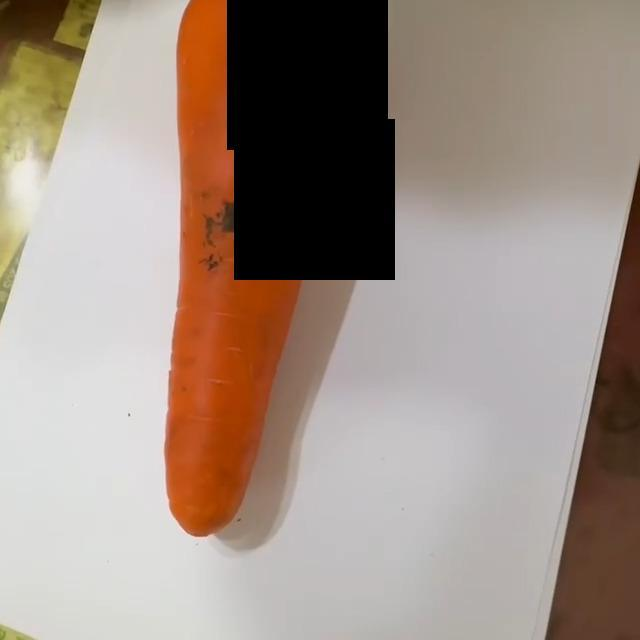carrot: (164, 1, 342, 540)
